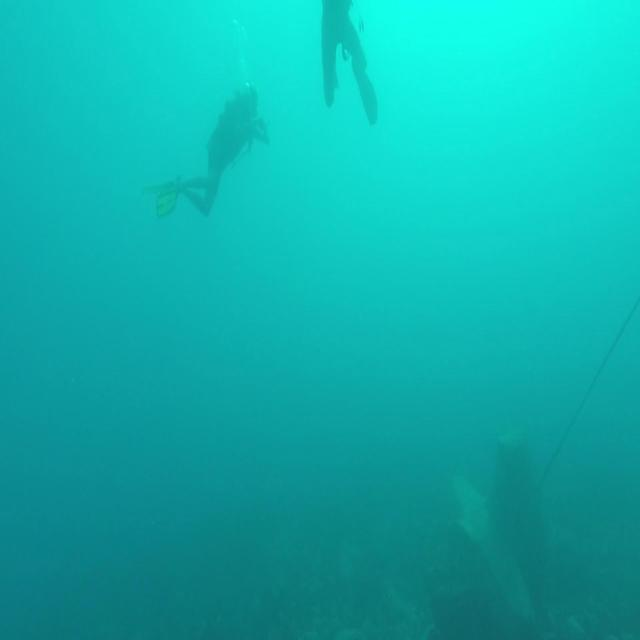human: (143, 80, 270, 220), (320, 0, 378, 126)
